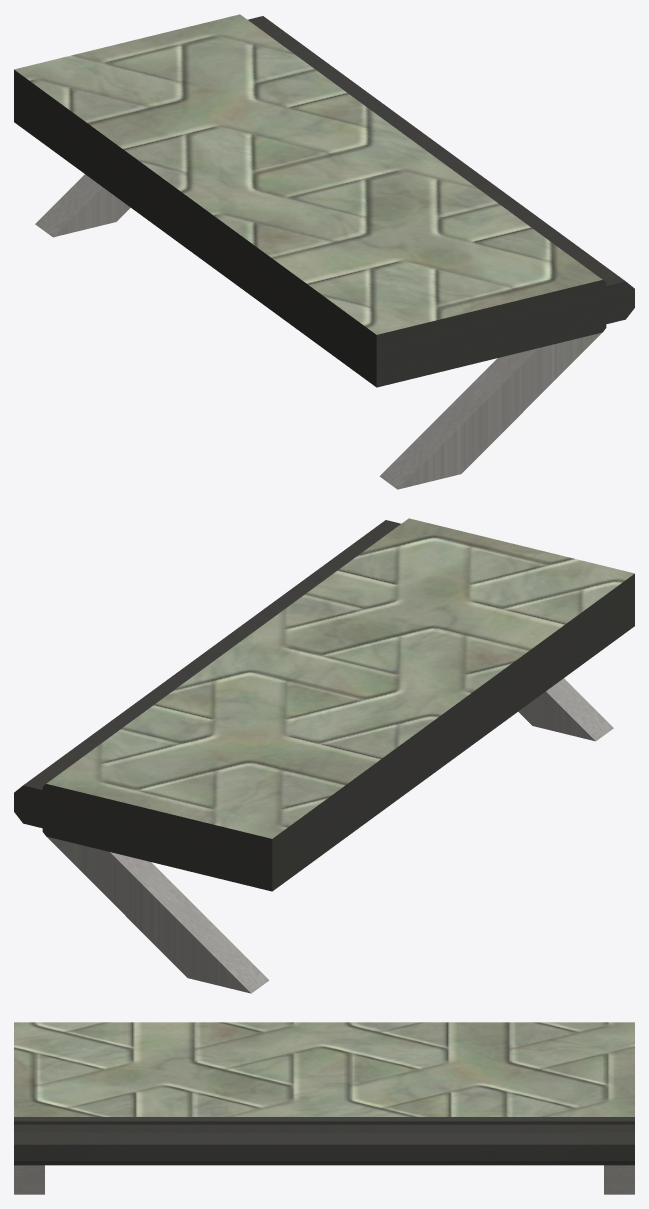
The model's file is BossPlatform.fbx.
The picture shows the model from 3 angles, top to bottom: view 1: azimuth 30°, elevation 25°; view 2: azimuth 150°, elevation 25°; view 3: azimuth 270°, elevation 25°; orthographic projection. The views are drawn at different scales.
Visible parts, largest first — view 1: BossPlatform; view 2: BossPlatform; view 3: BossPlatform.
Part boxes in pixels (left/top/right/bottom): BossPlatform: left=14, top=14, right=634, bottom=489; BossPlatform: left=14, top=518, right=634, bottom=993; BossPlatform: left=14, top=1022, right=634, bottom=1194.
Bounding box in the file's own units: 2.28 × 1.35 × 5.53.
1 material, 1 textured.
